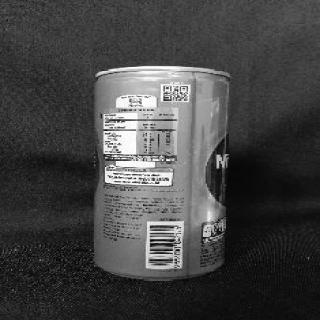alumunium_can: (92, 67, 232, 280)
